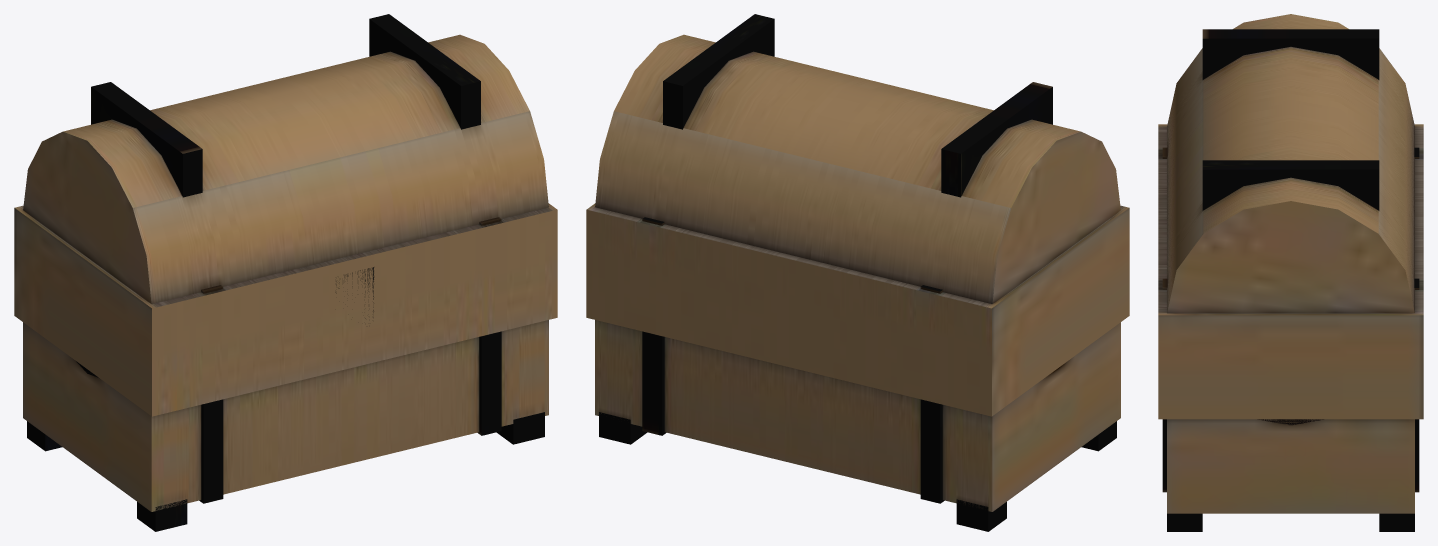
File: chest.glb
3 renders of one model, left to right at view 1: azimuth 30°, elevation 25°; view 2: azimuth 150°, elevation 25°; view 3: azimuth 270°, elevation 25°, orthographic. The views are drawn at different scales.
Visible parts, largest first — view 1: band-0.35; view 2: band-0.35; view 3: band-0.35.
Boxes of the visible parts, x1,y1,x2,y2 form: band-0.35: [14, 14, 557, 531]; band-0.35: [586, 14, 1129, 531]; band-0.35: [1158, 14, 1423, 531].
Bounding box in the file's own units: 1.02 × 0.85 × 0.6.
1 material, 1 textured.
